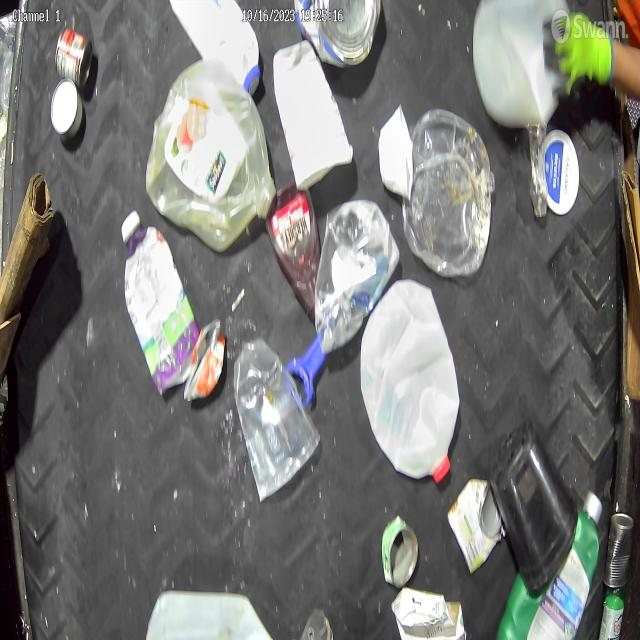can: (294, 0, 382, 69), (446, 474, 504, 576), (183, 316, 226, 404), (380, 514, 420, 588), (54, 25, 95, 92), (604, 510, 634, 590), (50, 76, 84, 143)
milk_jug: (144, 55, 278, 255), (358, 276, 462, 486), (471, 0, 571, 133), (170, 0, 262, 100)
non_white_jug: (495, 487, 604, 640)
